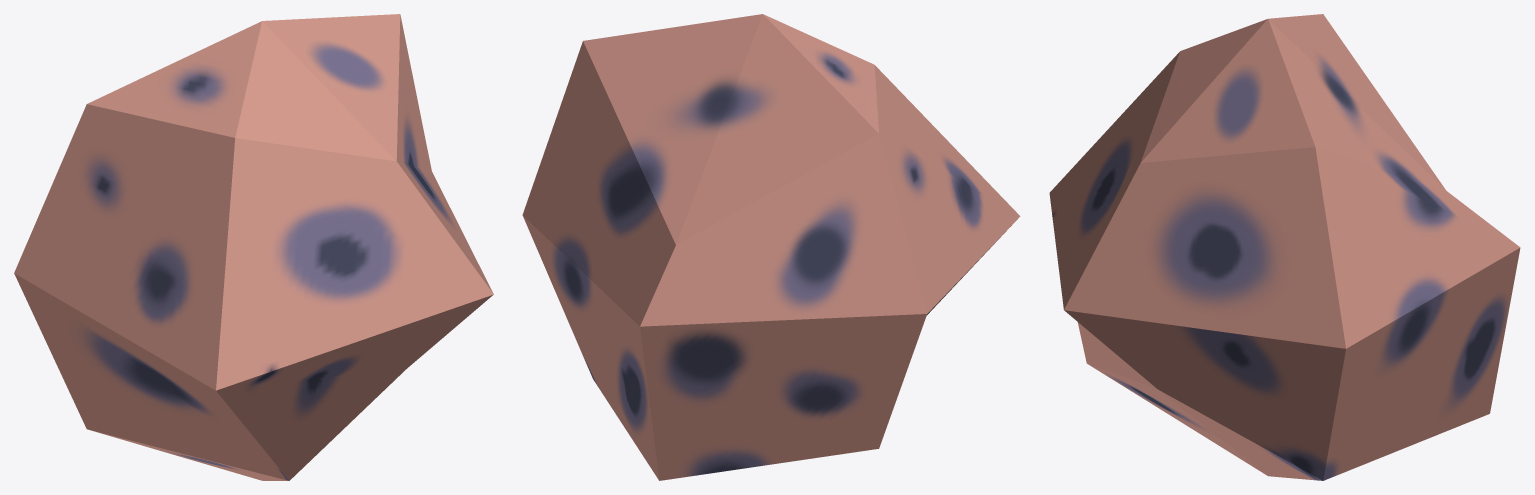
The model's file is Asteroid.gltf.
The picture shows the model from 3 angles, left to right: view 1: azimuth 30°, elevation 25°; view 2: azimuth 150°, elevation 25°; view 3: azimuth 270°, elevation 25°; orthographic projection. The views are drawn at different scales.
Visible parts, largest first — view 1: Sphere; view 2: Sphere; view 3: Sphere.
Part boxes in pixels (bbox=[...]): Sphere: bbox=[14, 14, 493, 480]; Sphere: bbox=[522, 14, 1020, 480]; Sphere: bbox=[1049, 14, 1520, 480].
Size of the model in its own units: 5.19 by 5.46 by 5.09.
Materials: 1 (1 with a texture image).
